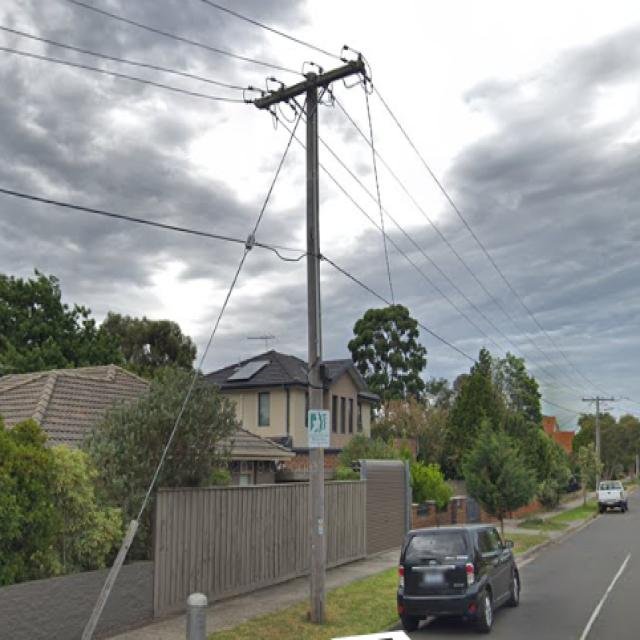crossarm: (253, 61, 364, 110), (582, 397, 616, 404)
timber-pole: (306, 72, 325, 625), (594, 396, 601, 492)
